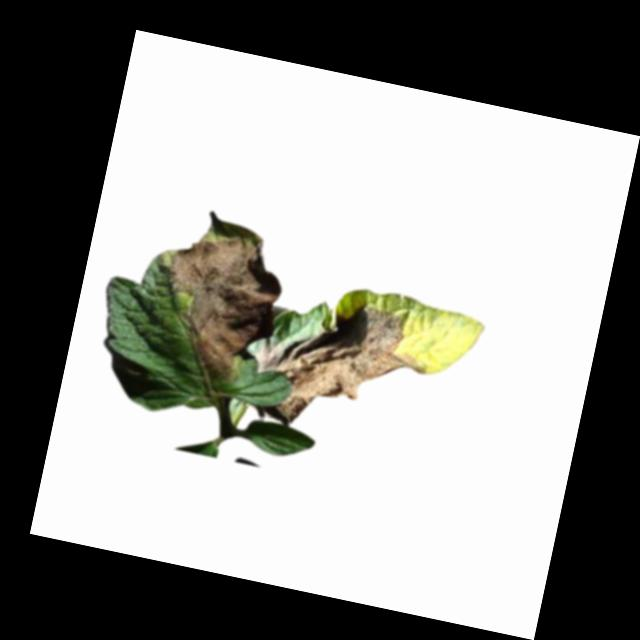Late_blight: (243, 282, 440, 451), (144, 202, 296, 391)
